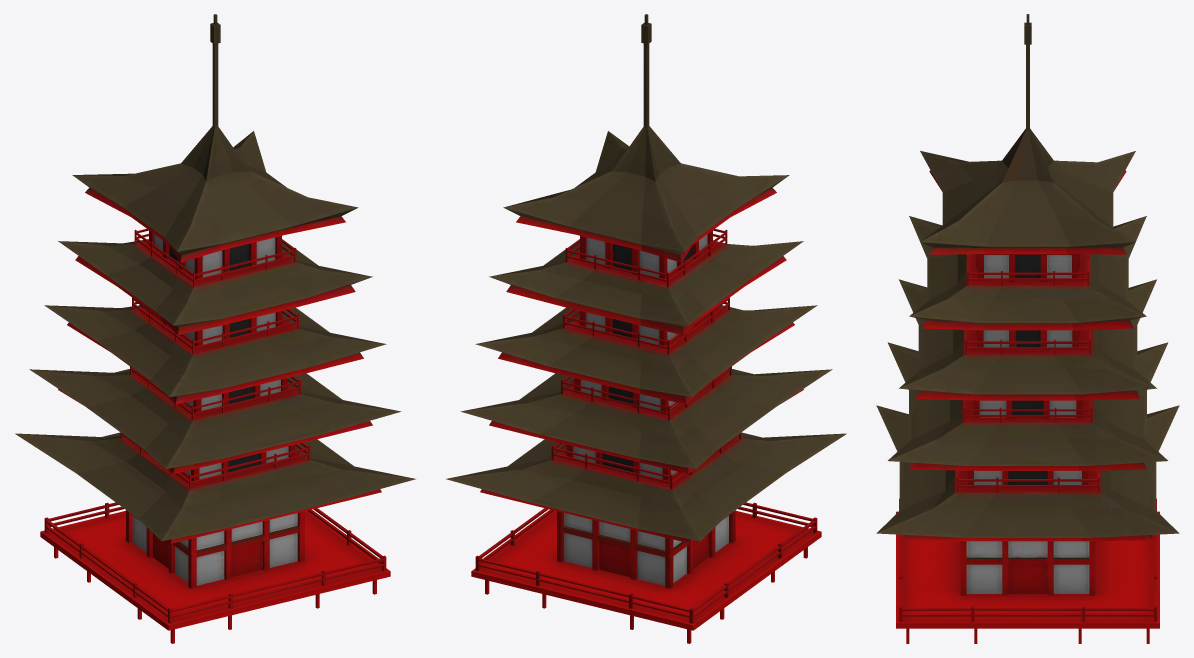
Rendered from 1zS7ucaAd4J.glb.
The picture shows the model from 3 angles, left to right: view 1: azimuth 30°, elevation 25°; view 2: azimuth 150°, elevation 25°; view 3: azimuth 270°, elevation 25°; orthographic projection. The views are drawn at different scales.
Parts seen in each view (by area): view 1: Pagoda_mesh; view 2: Pagoda_mesh; view 3: Pagoda_mesh.
Boxes of the visible parts, left/top/right/bottom form: Pagoda_mesh: left=15, top=14, right=415, bottom=643; Pagoda_mesh: left=446, top=14, right=846, bottom=643; Pagoda_mesh: left=876, top=14, right=1179, bottom=643.
Size of the model in its own units: 0.4759 by 1 by 0.4759.
1 material, 1 textured.
